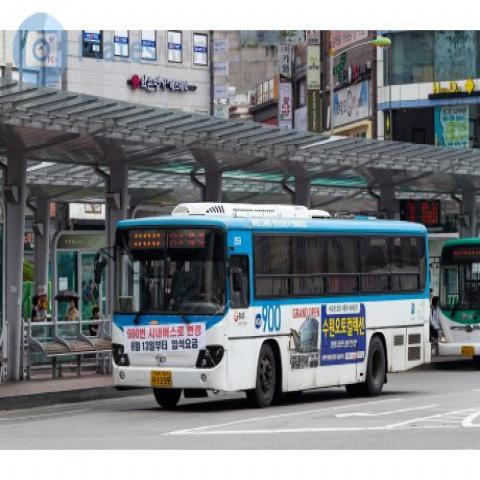LP: (148, 368, 180, 392)
